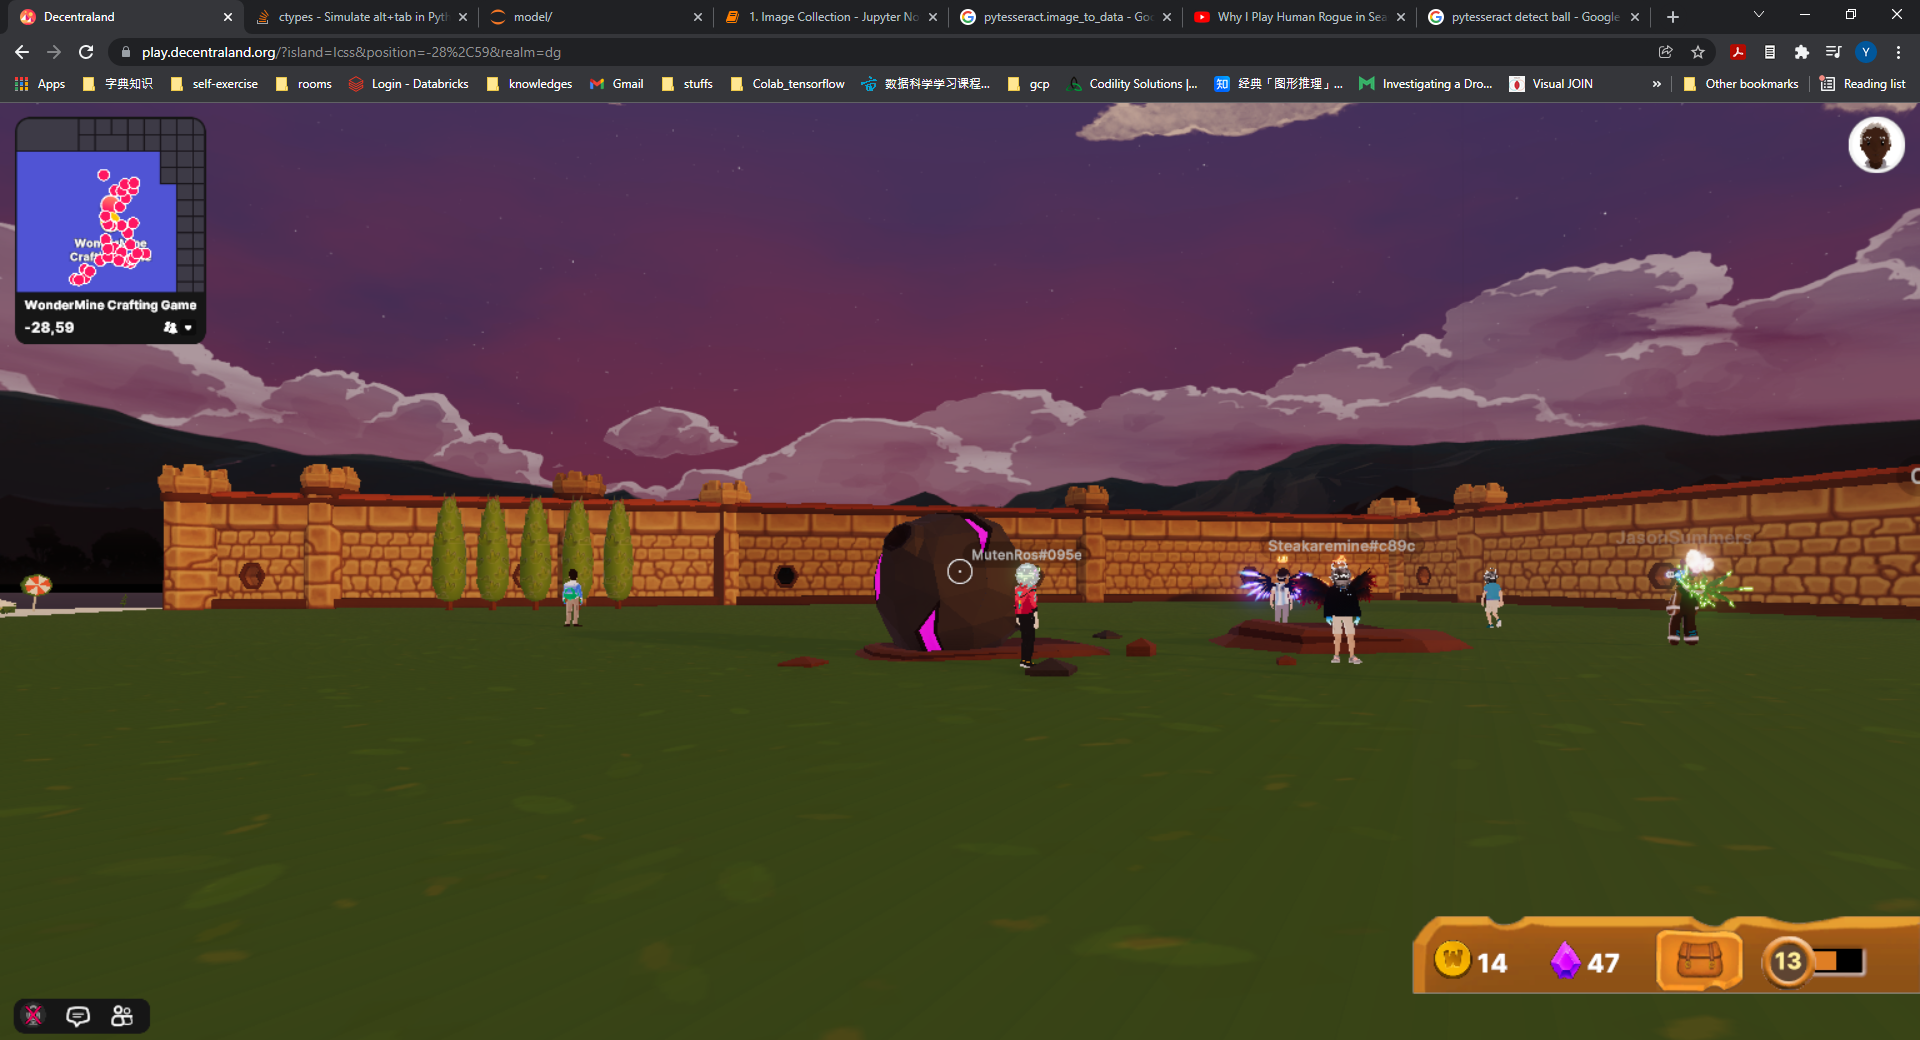black_ball: (859, 500, 1042, 678)
